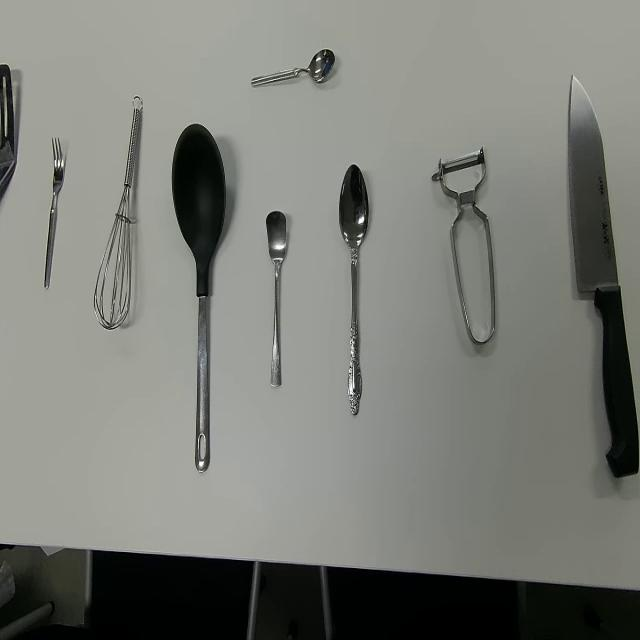Desert-Spoon: (338, 163, 370, 418)
Dinner-Fork: (44, 136, 64, 292)
Kitchen-Knife: (567, 72, 640, 480)
Peeler: (431, 145, 496, 346)
Serving-Spoon: (170, 122, 227, 475), (0, 62, 16, 230)
Tea-Spoon: (266, 209, 287, 389), (250, 46, 336, 89)
Whisk: (93, 94, 143, 331)
